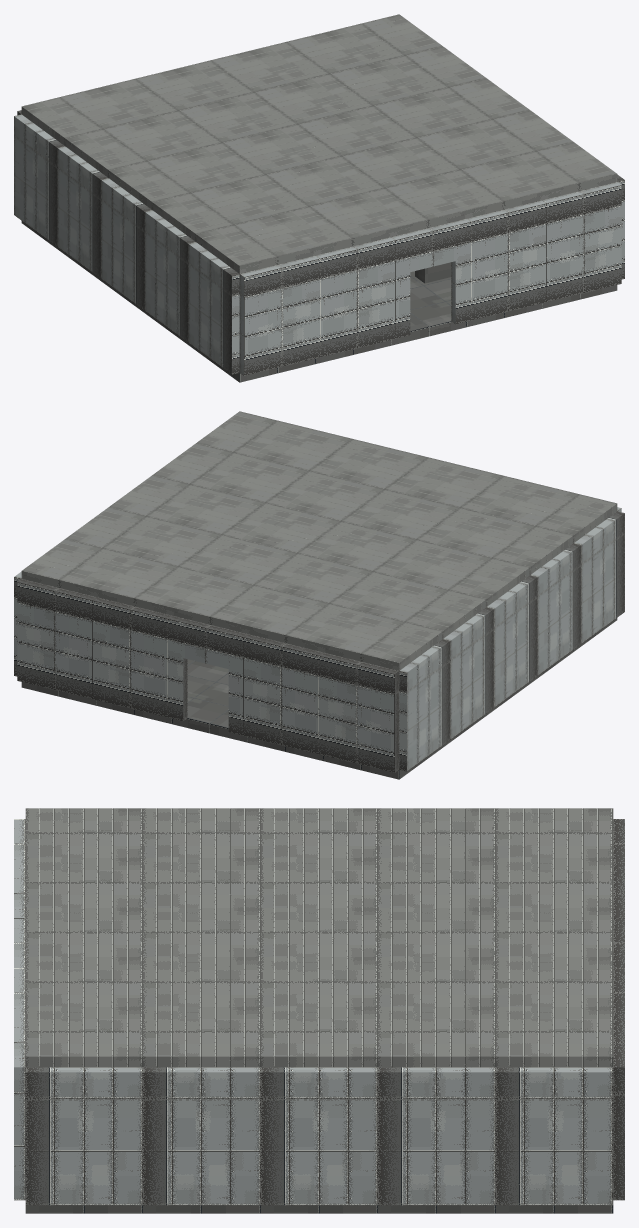
Rendered from shell_arena_split.glb.
3 renders of one model, top to bottom at view 1: azimuth 30°, elevation 25°; view 2: azimuth 150°, elevation 25°; view 3: azimuth 270°, elevation 25°, orthographic. The views are drawn at different scales.
Parts seen in each view (by area): view 1: shell_arena_split; view 2: shell_arena_split; view 3: shell_arena_split.
Boxes of the visible parts, <box> form: shell_arena_split: <box>14,14,624,382</box>; shell_arena_split: <box>14,411,624,779</box>; shell_arena_split: <box>14,808,624,1213</box>.
Size of the model in its own units: 20.8 by 5.9 by 20.8.
Materials: 24 (24 with a texture image).
